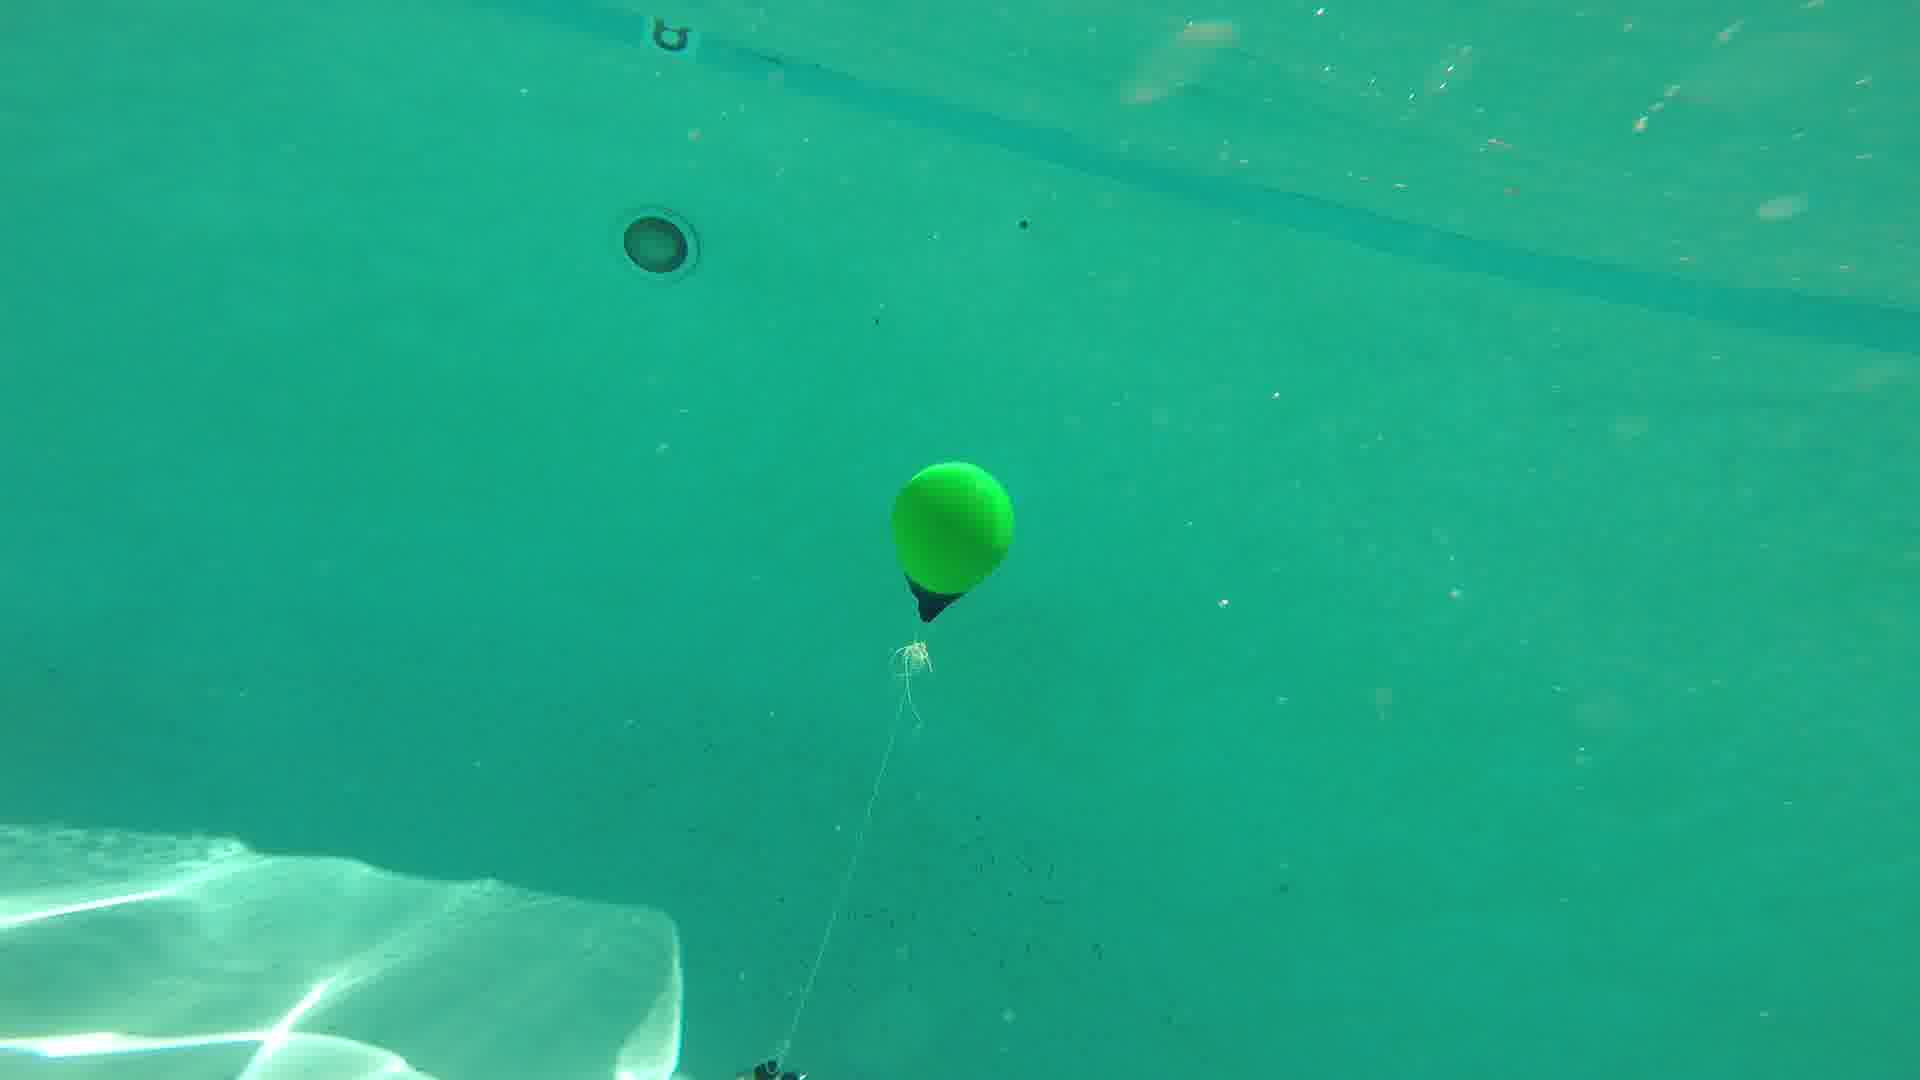yellow_buoy: (889, 459, 1021, 626)
